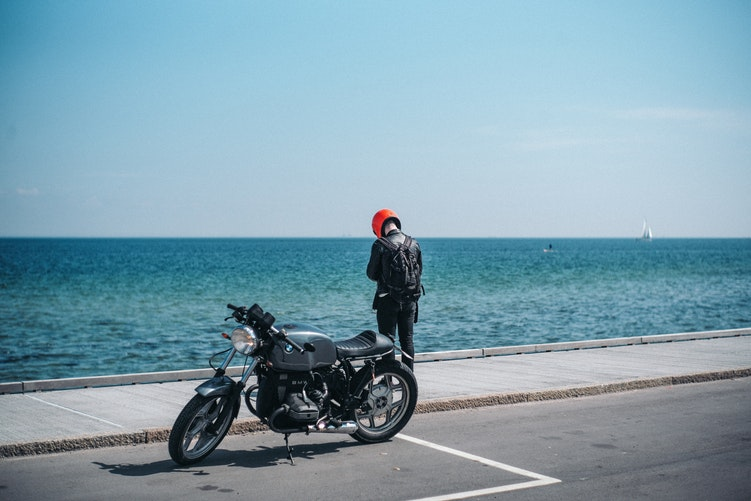helmet: (368, 204, 403, 244)
